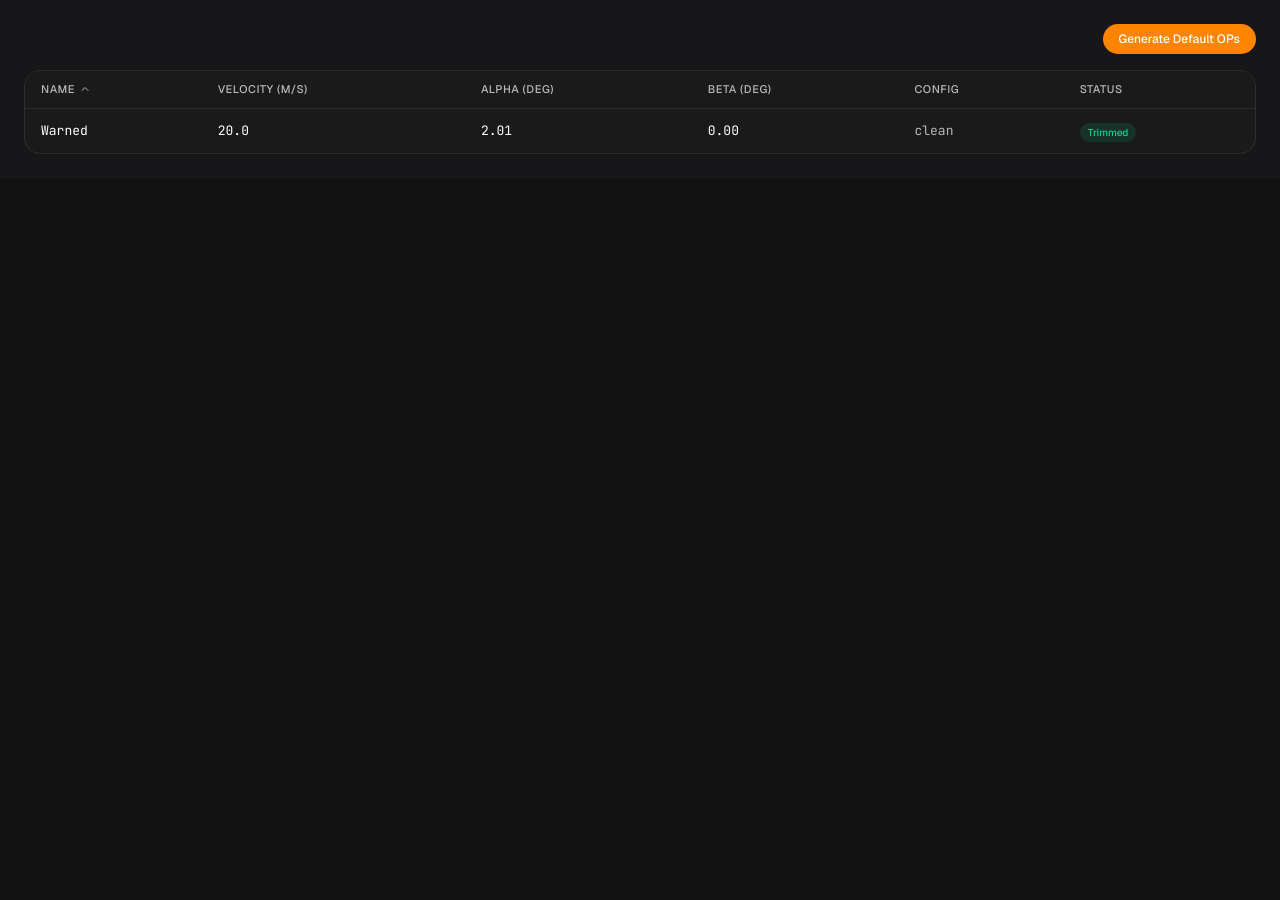
OperatingPointsPanel › drawer shows warnings when present
The image size is (1280, 900).
Click the text "Warned".
click(64, 130)  # box [25,108,202,152]
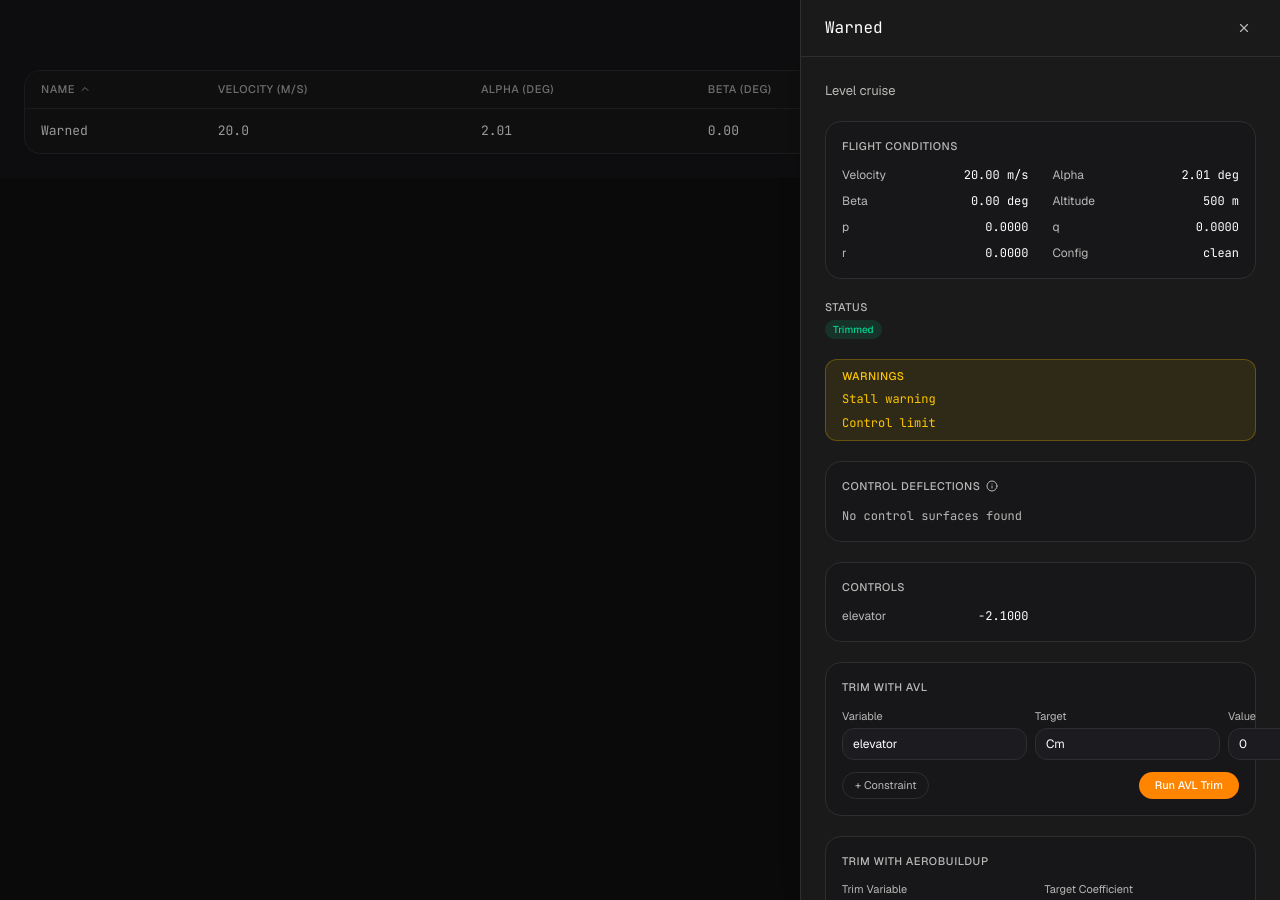
Now the text "Stall warning" is shown, box [842,391,936,407]
Now the text "Control limit" is shown, box [842,415,936,431]
